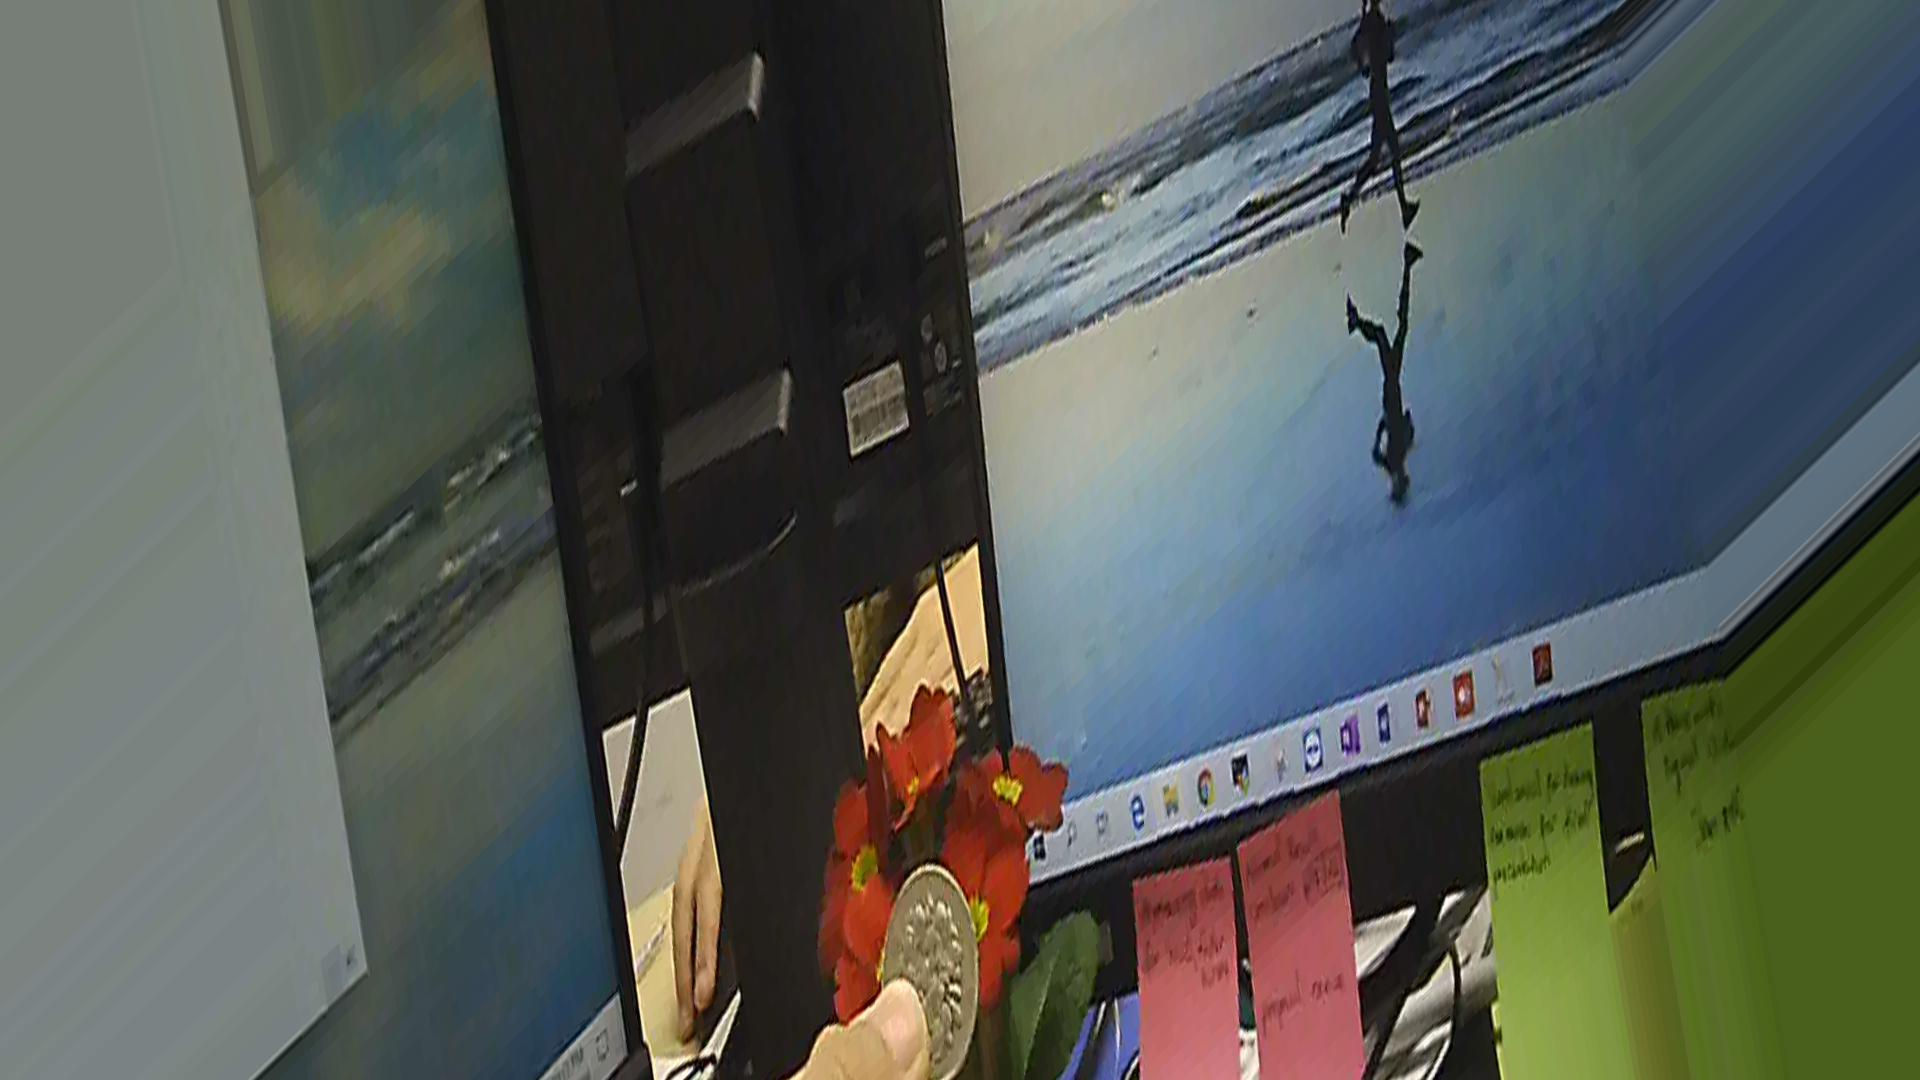100 Yen: (861, 851, 994, 1079)
